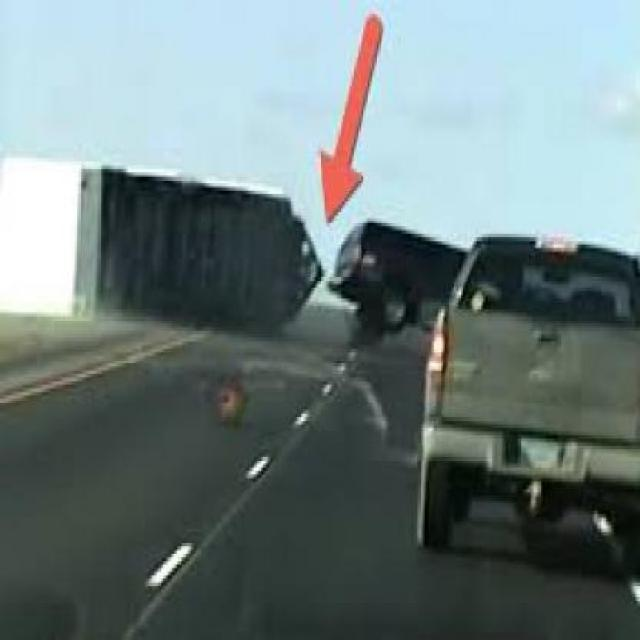accident: (178, 158, 437, 356)
